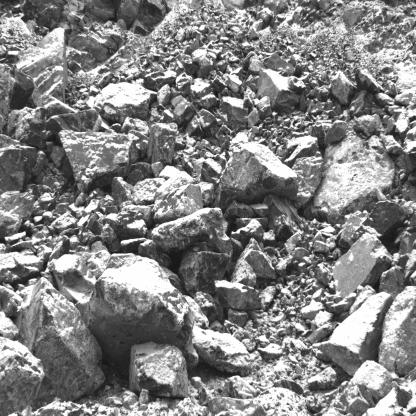stone: (85, 251, 197, 364), (16, 281, 106, 405), (307, 131, 397, 219), (317, 290, 391, 374), (214, 144, 295, 211), (60, 130, 137, 191), (12, 25, 67, 105), (151, 209, 232, 256), (376, 282, 416, 372), (332, 233, 388, 296), (127, 342, 186, 400), (0, 336, 41, 416), (189, 322, 254, 370), (0, 129, 43, 197), (152, 171, 203, 222), (179, 252, 231, 294), (96, 82, 155, 119), (45, 99, 101, 137), (354, 200, 407, 240), (293, 143, 325, 209), (51, 254, 95, 301), (257, 69, 297, 114), (5, 106, 47, 148), (0, 193, 33, 244), (238, 237, 277, 280), (265, 193, 305, 234), (215, 281, 261, 312), (0, 252, 44, 284), (148, 120, 177, 166), (184, 108, 219, 138), (221, 94, 249, 130), (112, 210, 148, 237), (338, 213, 367, 246), (378, 267, 408, 297), (133, 178, 167, 204), (332, 69, 356, 104), (190, 77, 216, 109), (354, 66, 384, 93), (142, 69, 177, 91), (348, 90, 373, 119), (173, 98, 197, 127), (231, 261, 257, 287), (322, 120, 349, 145), (266, 53, 295, 75), (353, 115, 382, 137), (225, 200, 254, 220), (112, 177, 132, 205), (49, 235, 69, 261), (200, 159, 222, 182), (246, 56, 265, 79), (314, 264, 333, 286), (257, 96, 273, 119), (157, 84, 170, 107), (288, 77, 306, 93), (251, 203, 270, 217), (314, 241, 331, 254)
